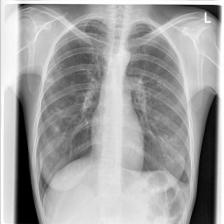tuberculosis: (31, 15, 196, 224)
